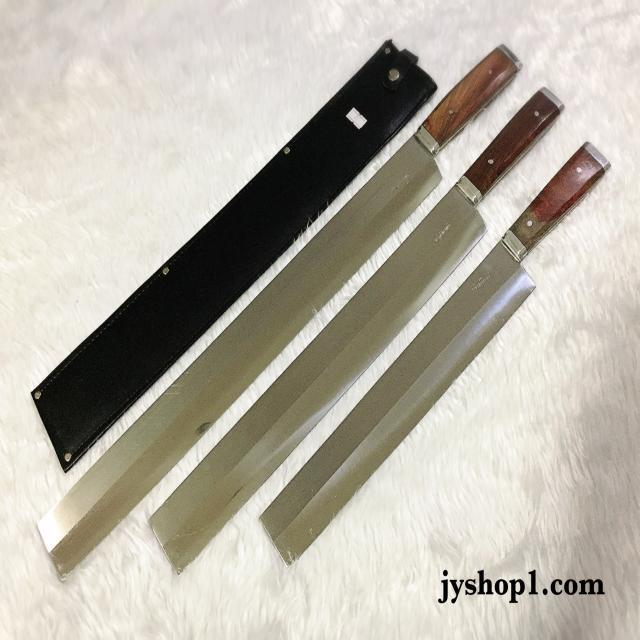eto: (38, 41, 526, 581), (146, 88, 561, 584)
